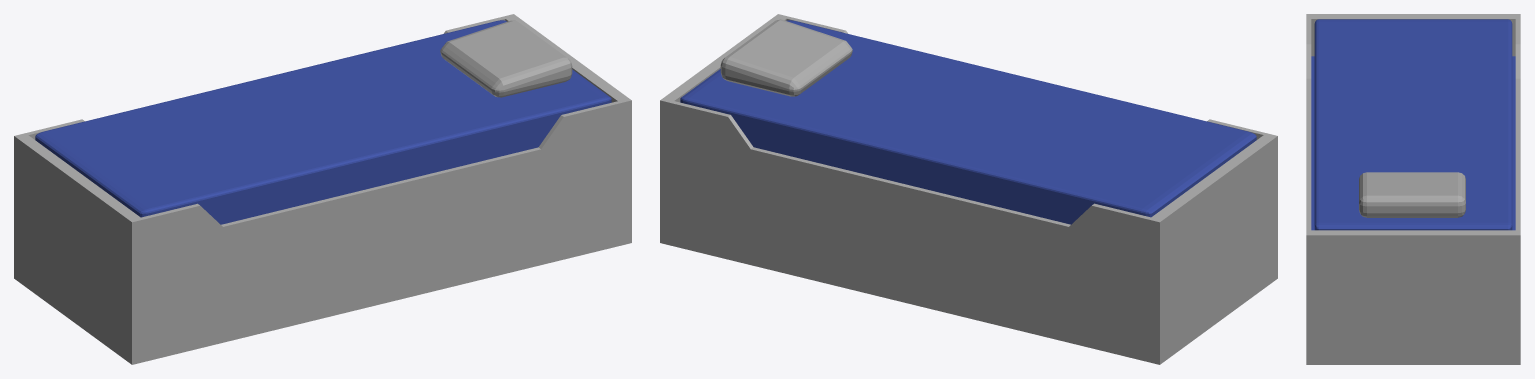
File: SingleBed.fbx
3 renders of one model, left to right at view 1: azimuth 30°, elevation 25°; view 2: azimuth 150°, elevation 25°; view 3: azimuth 270°, elevation 25°, orthographic. The views are drawn at different scales.
Visible parts, largest first — view 1: Single Bed; view 2: Single Bed; view 3: Single Bed.
Boxes of the visible parts, x1=… form: Single Bed: x1=14, y1=14, x2=631, y2=364; Single Bed: x1=660, y1=14, x2=1277, y2=364; Single Bed: x1=1306, y1=14, x2=1520, y2=364.
Size of the model in its own units: 220 by 71.29 by 90.
